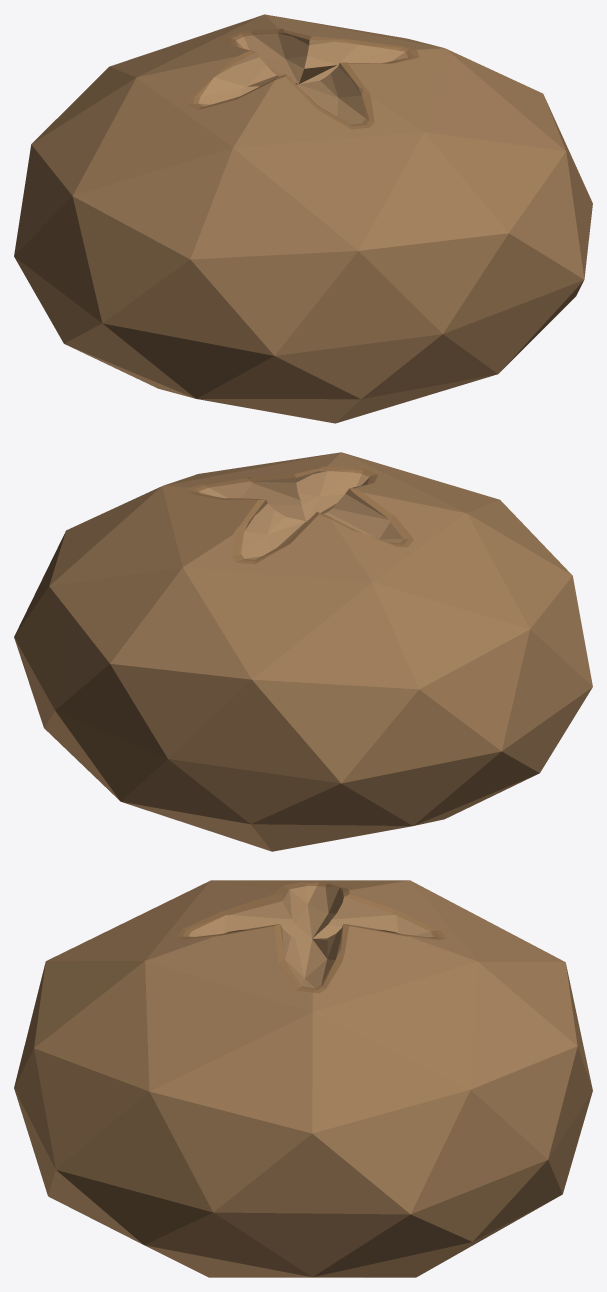
The model's file is Bun_01.fbx.
3 renders of one model, top to bottom at view 1: azimuth 30°, elevation 25°; view 2: azimuth 150°, elevation 25°; view 3: azimuth 270°, elevation 25°, orthographic. The views are drawn at different scales.
Visible parts, largest first — view 1: Bun_01; view 2: Bun_01; view 3: Bun_01.
Part boxes in pixels (x1=…): Bun_01: x1=14, y1=14, x2=592, y2=423; Bun_01: x1=14, y1=452, x2=592, y2=851; Bun_01: x1=14, y1=880, x2=592, y2=1277.
Bounding box in the file's own units: 11.91 × 7.22 × 11.67.
